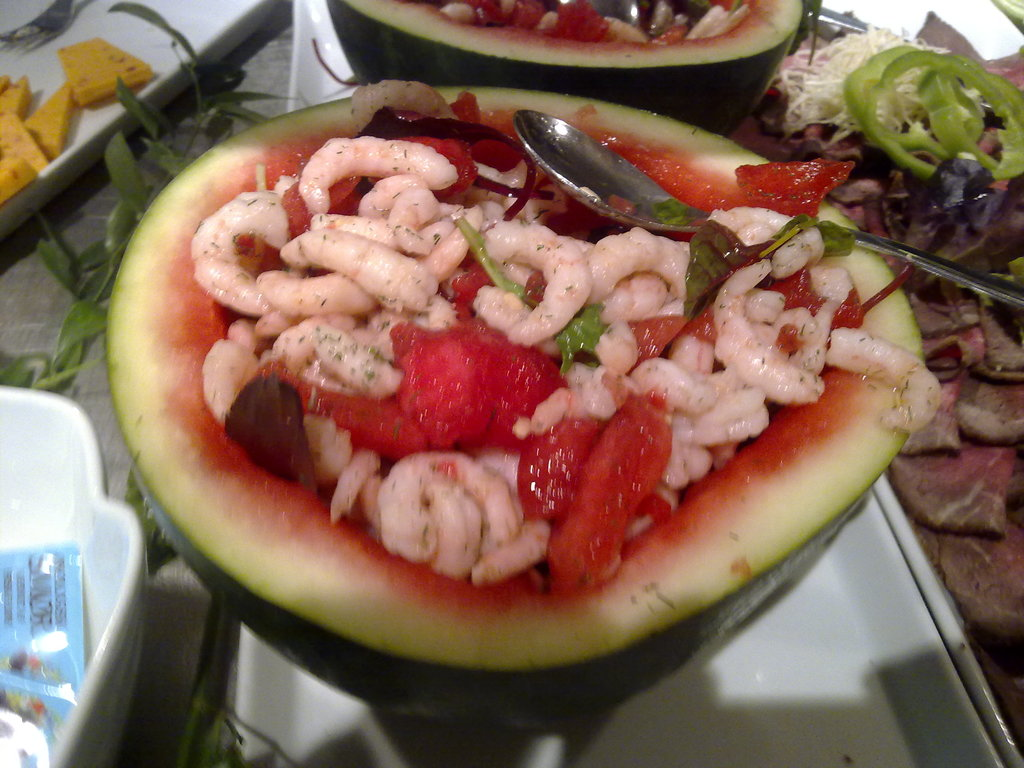salad: (769, 19, 1023, 181)
